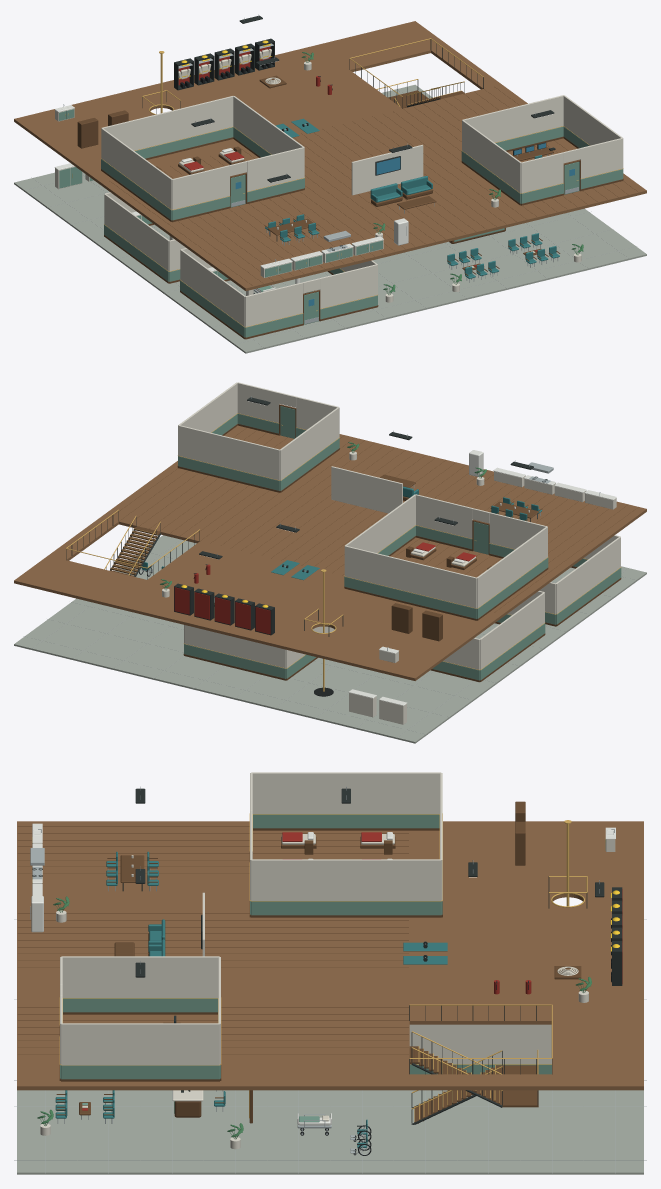
File: hospital-fire-station.glb
3 renders of one model, top to bottom at view 1: azimuth 30°, elevation 25°; view 2: azimuth 150°, elevation 25°; view 3: azimuth 270°, elevation 25°, orthographic. The views are drawn at different scales.
Visible parts, largest first — view 1: FireStation_Upper__Station oak flooring, FireStation_Upper__Warm plaster, Hospital_Ground__Warm terrazzo, Hospital_Ground__Warm plaster, FireStation_Upper__Hospital sage, FireStation_Upper__Smoked oak, Hospital_Ground__Hospital sage, FireStation_Upper__Graphite, FireStation_Upper__Petrol upholstery, Hospital_Ground__Petrol upholstery, Hospital_Ground__Smoked oak, FireStation_Upper__Clinical enamel (+8 smaller); view 2: FireStation_Upper__Station oak flooring, Hospital_Ground__Warm terrazzo, FireStation_Upper__Warm plaster, Hospital_Ground__Warm plaster, FireStation_Upper__Hospital sage, FireStation_Upper__Smoked oak, Hospital_Ground__Hospital sage, FireStation_Upper__Fire service oxblood, FireStation_Upper__Graphite, Stairs_And_Pole__Smoked oak, FireStation_Upper__Clinical enamel, Stairs_And_Pole__Brushed warm brass (+5 smaller); view 3: FireStation_Upper__Station oak flooring, Hospital_Ground__Warm terrazzo, FireStation_Upper__Warm plaster, FireStation_Upper__Smoked oak, FireStation_Upper__Hospital sage, Hospital_Ground__Warm plaster, Stairs_And_Pole__Smoked oak, Hospital_Ground__Satin stainless steel, FireStation_Upper__Graphite, FireStation_Upper__Petrol upholstery, Stairs_And_Pole__Brushed warm brass, Stairs_And_Pole__Graphite (+6 smaller).
Part boxes in pixels (x1,y1,x2,y2): FireStation_Upper__Station oak flooring: (14,21,646,290); FireStation_Upper__Warm plaster: (55,61,623,277); Hospital_Ground__Warm terrazzo: (14,84,646,353); Hospital_Ground__Warm plaster: (55,166,581,327); FireStation_Upper__Hospital sage: (59,109,623,277); FireStation_Upper__Smoked oak: (77,75,637,285); Hospital_Ground__Hospital sage: (59,167,529,337); FireStation_Upper__Graphite: (174,15,555,250); FireStation_Upper__Petrol upholstery: (265,118,542,242); Hospital_Ground__Petrol upholstery: (305,233,559,293); Hospital_Ground__Smoked oak: (104,223,560,339); FireStation_Upper__Clinical enamel: (54,105,408,268); FireStation_Upper__Station oak flooring: (14,425,646,680); Hospital_Ground__Warm terrazzo: (14,535,646,743); FireStation_Upper__Warm plaster: (162,382,616,662); Hospital_Ground__Warm plaster: (184,535,620,724); FireStation_Upper__Hospital sage: (178,414,548,618); FireStation_Upper__Smoked oak: (109,404,638,641); Hospital_Ground__Hospital sage: (184,559,621,680); FireStation_Upper__Fire service oxblood: (174,542,476,634); FireStation_Upper__Graphite: (174,397,547,635); Stairs_And_Pole__Smoked oak: (110,526,161,576); FireStation_Upper__Clinical enamel: (379,450,616,653); Stairs_And_Pole__Brushed warm brass: (66,509,342,633); FireStation_Upper__Station oak flooring: (17,821,643,1090); Hospital_Ground__Warm terrazzo: (17,1090,643,1174); FireStation_Upper__Warm plaster: (33,772,615,1065); FireStation_Upper__Smoked oak: (18,801,581,1081); FireStation_Upper__Hospital sage: (32,814,605,1079); Hospital_Ground__Warm plaster: (40,1024,551,1149); Stairs_And_Pole__Smoked oak: (409,1046,538,1123); Hospital_Ground__Satin stainless steel: (14,919,646,1173); FireStation_Upper__Graphite: (32,788,622,1023); FireStation_Upper__Petrol upholstery: (106,851,447,964); Stairs_And_Pole__Brushed warm brass: (409,820,587,1121); Stairs_And_Pole__Graphite: (409,876,587,1124).
Size of the model in its own units: 39.98 by 11.9 by 39.98.
